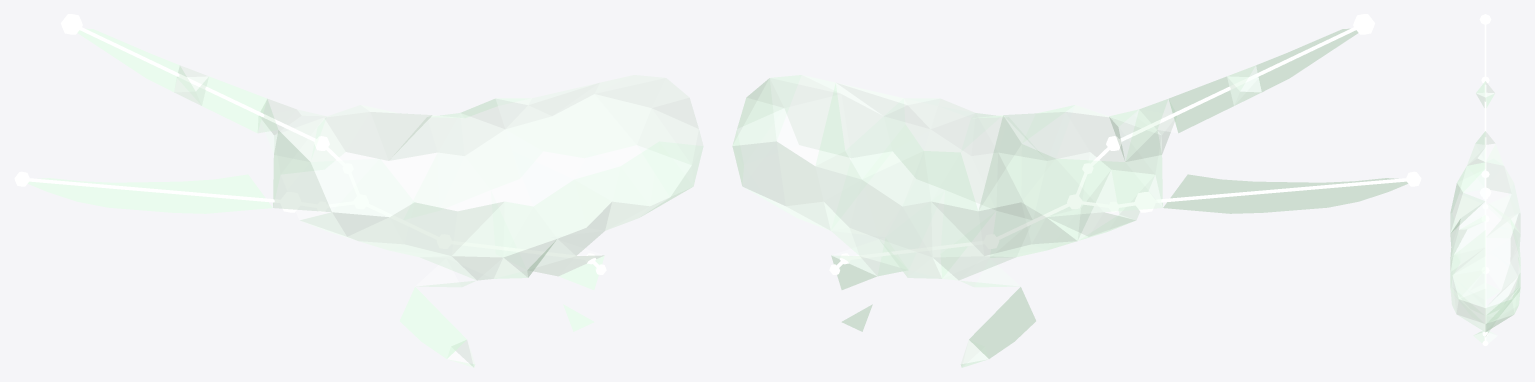
The model's file is 02_Taurus.glb.
The picture shows the model from 3 angles, left to right: view 1: azimuth 30°, elevation 25°; view 2: azimuth 150°, elevation 25°; view 3: azimuth 270°, elevation 25°; orthographic projection. The views are drawn at different scales.
Parts seen in each view (by area): view 1: Taurus; view 2: Taurus; view 3: Taurus.
Boxes of the visible parts, x1,y1,x2,y2 form: Taurus: (14, 14, 703, 367); Taurus: (732, 14, 1421, 367); Taurus: (1450, 14, 1520, 345).
Bounding box in the file's own units: 1.72 × 1.09 × 0.3.
